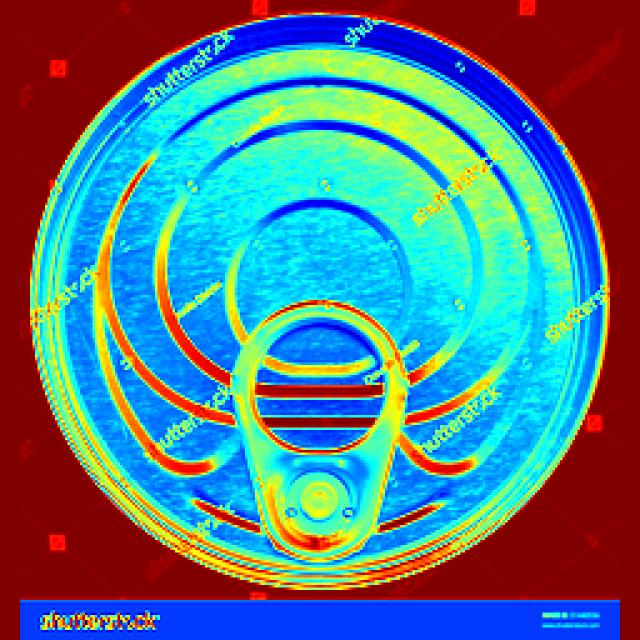Aluminium Food Cans: (28, 7, 600, 570)
